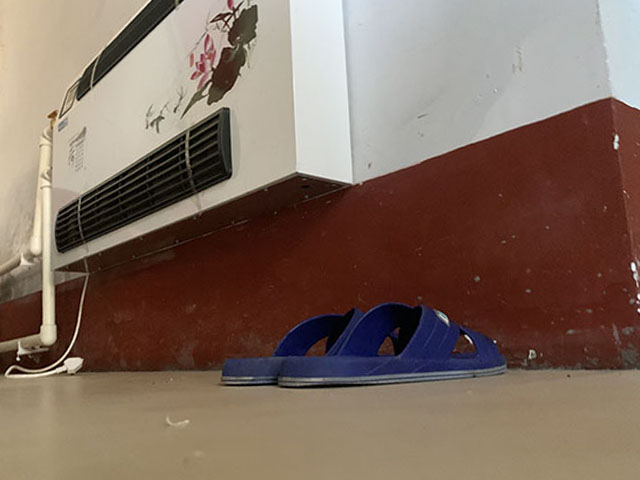slippers: (277, 300, 509, 390), (224, 309, 388, 383)
wire: (5, 268, 90, 380)
